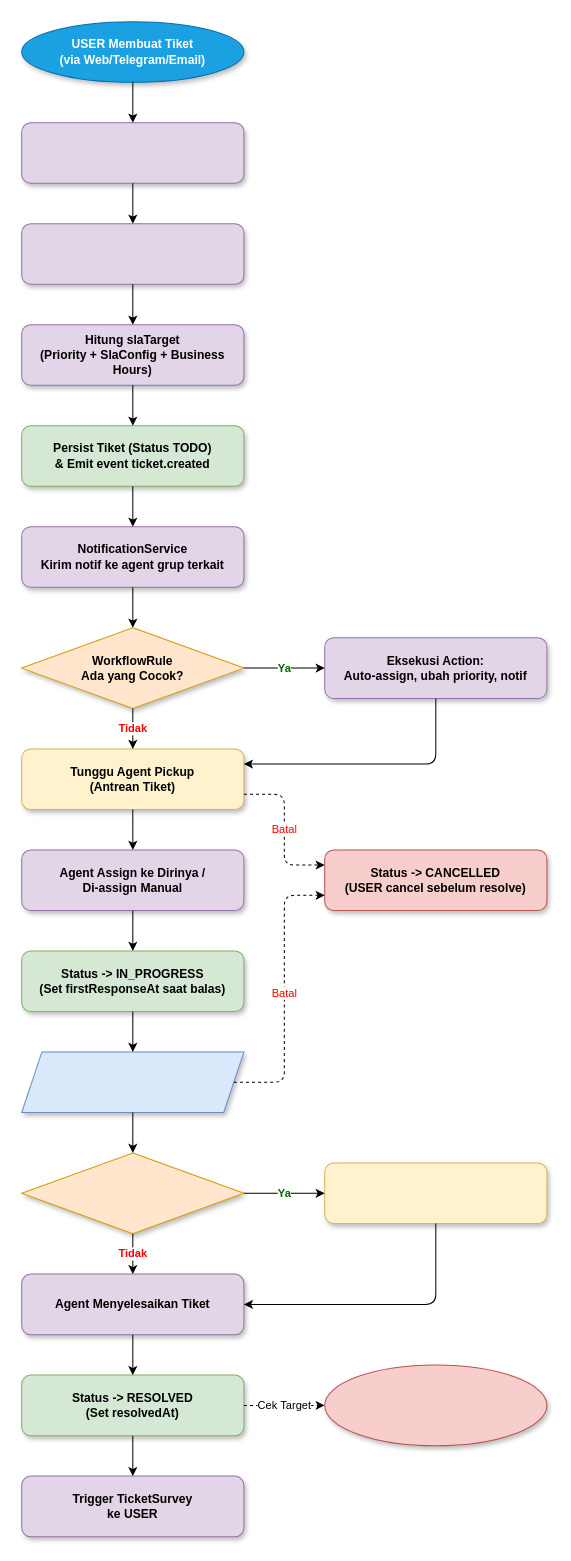
Some shapes in this 571 by 1561 pixel diagram are drawn without their labels. The centre of each missing label's shape, as x and y in pixels:
"Butuh Bantuan Vendor?" belongs at point 133,1194.
"Cron SLA Monitor (Background Task) Menandai Breach jika lewat Target" belongs at point 436,1406.
"Percakapan via TicketMessage (Internal / Eksternal)" belongs at point 133,1083.
"POST /tickets" belongs at point 133,154.
"Status -> WAITING_VENDOR (Akumulasi waitingVendorMinutes)" belongs at point 436,1194.
"TicketCreateService: Validasi DTO & Assign ticketNumber" belongs at point 133,255.
